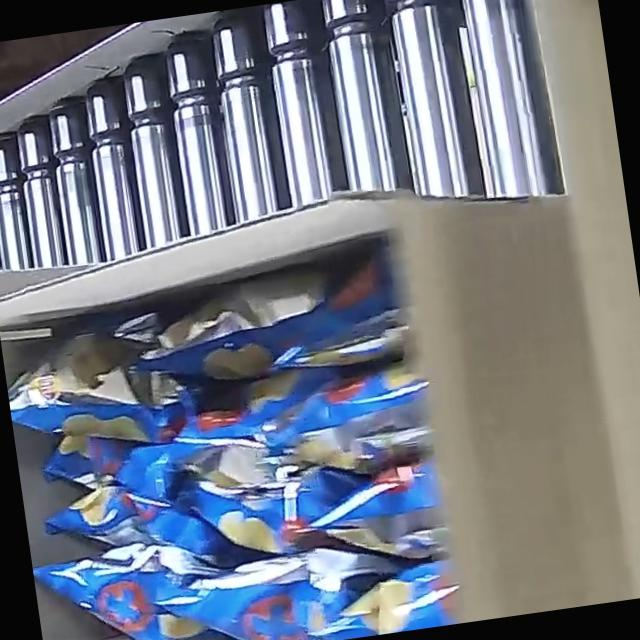paprika: (0, 248, 461, 640)
